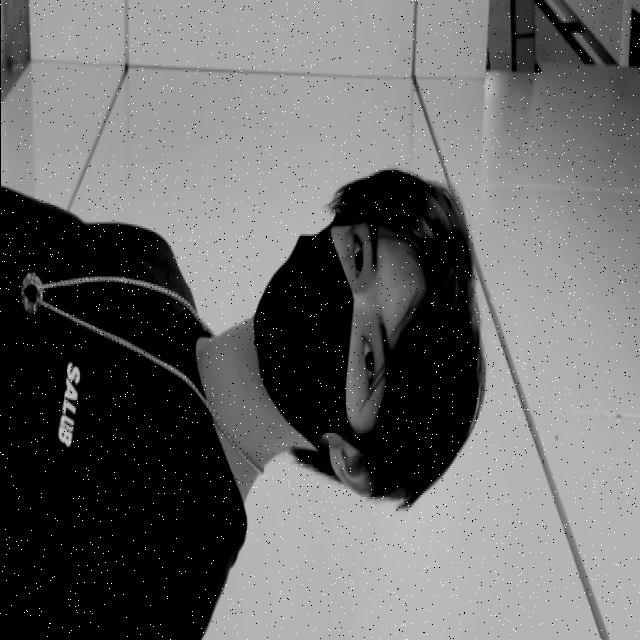face_mask: (263, 211, 427, 487)
